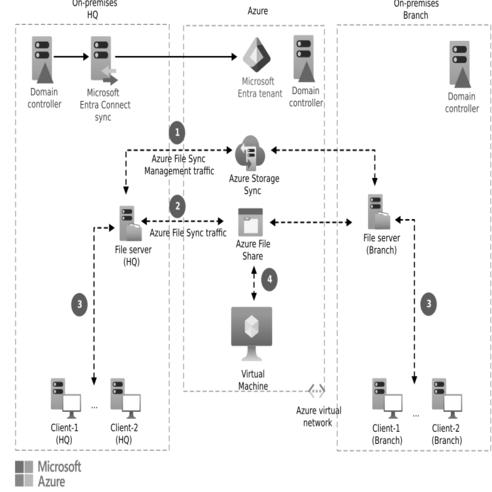actor: (430, 378, 462, 419), (46, 378, 77, 419), (108, 378, 139, 419), (369, 378, 400, 419)
compute: (235, 304, 266, 350), (30, 38, 56, 84), (89, 38, 115, 84), (290, 38, 316, 84), (443, 38, 469, 84), (116, 202, 142, 243), (370, 191, 390, 232)
data_flow: (412, 217, 415, 386), (93, 227, 96, 386), (254, 220, 367, 224), (116, 55, 234, 58), (116, 149, 234, 152), (264, 149, 382, 152), (142, 220, 229, 224), (249, 250, 252, 317), (124, 152, 128, 190), (103, 66, 113, 76), (56, 55, 82, 58), (95, 226, 126, 228), (376, 157, 378, 185), (390, 216, 416, 218)
database_storage: (237, 206, 263, 238)
network_security: (236, 38, 267, 74), (235, 135, 266, 171), (303, 384, 323, 398)
trust_boundary: (16, 24, 170, 452), (336, 24, 490, 452), (182, 44, 326, 372)
